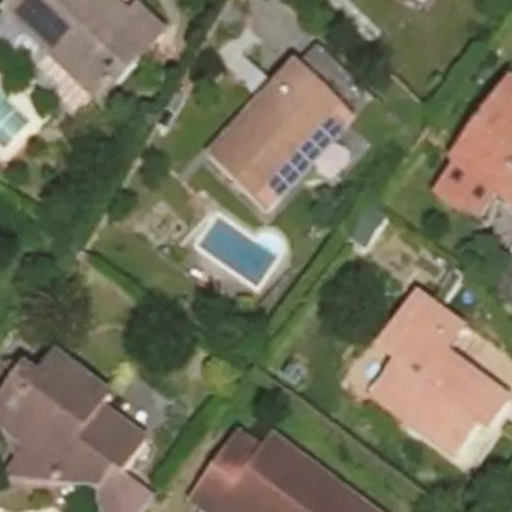pool: (221, 238, 290, 245)
